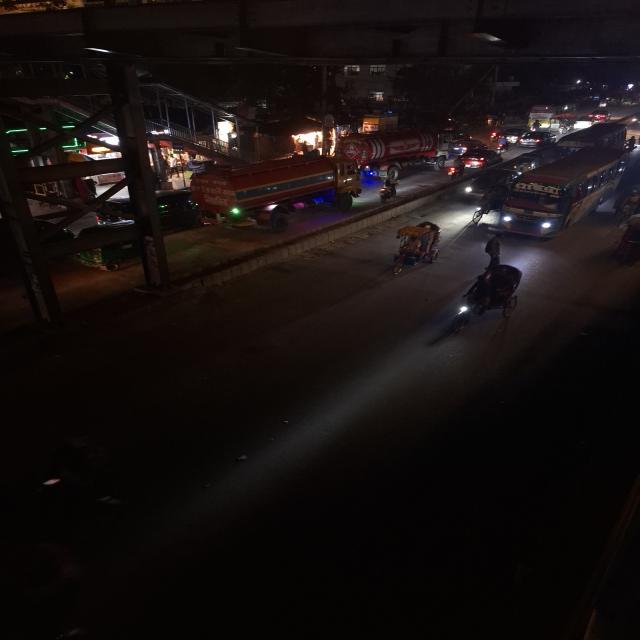bus: (497, 146, 628, 238), (557, 122, 628, 152)
car: (461, 168, 516, 200), (460, 147, 503, 169), (517, 128, 554, 148), (495, 126, 526, 140), (590, 111, 611, 121)
cng: (359, 157, 403, 181), (419, 151, 452, 171)
motorcycle: (376, 179, 401, 203)
pedestrian: (482, 234, 504, 265)
rickshaw: (449, 261, 526, 333), (386, 218, 444, 278), (611, 212, 640, 265)
truck: (186, 153, 359, 231)
